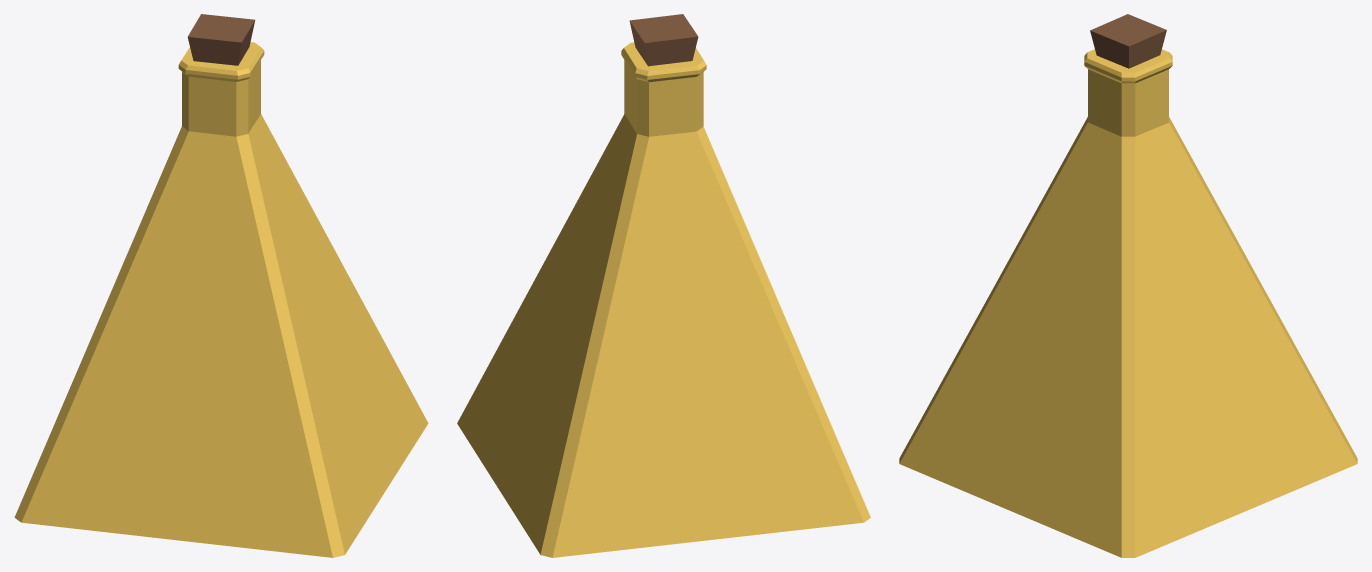
File: Potion_04_Yellow.fbx
3 views of the same model, side by side, from view 1: azimuth 30°, elevation 25°; view 2: azimuth 150°, elevation 25°; view 3: azimuth 270°, elevation 25° (orthographic). The views are drawn at different scales.
Visible parts, largest first — view 1: Cone.010, Cube.020, Cube.021; view 2: Cone.010, Cube.020, Cube.021; view 3: Cone.010, Cube.020, Cube.021.
Boxes of the visible parts, x1,y1,x2,y2 form: Cone.010: (14, 114, 428, 557); Cube.020: (178, 42, 264, 136); Cube.021: (187, 14, 255, 65); Cone.010: (457, 114, 870, 557); Cube.020: (621, 42, 706, 136); Cube.021: (629, 14, 698, 66); Cone.010: (899, 117, 1357, 557); Cube.020: (1084, 49, 1172, 136); Cube.021: (1090, 14, 1166, 68).
Size of the model in its own units: 31.08 by 32.26 by 31.08.
